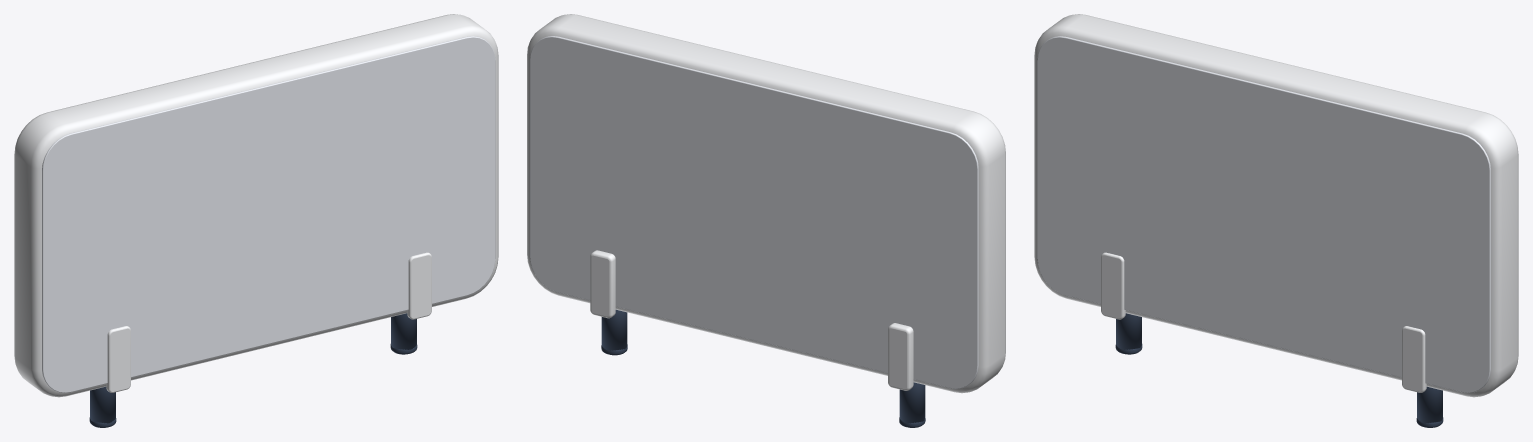
File: 24-nodeworks-monitor-divider.glb
3 views of the same model, side by side, from view 1: azimuth 30°, elevation 25°; view 2: azimuth 150°, elevation 25°; view 3: azimuth 330°, elevation 25° (orthographic).
Visible parts, largest first — view 1: rear_white_panel_face, rounded_white_panel_shell, right_rear_white_mount, left_rear_white_mount, right_dark_short_leg, left_dark_short_leg; view 2: front_white_panel_face, rounded_white_panel_shell, right_front_white_mount, left_front_white_mount, left_dark_short_leg, right_dark_short_leg; view 3: rear_white_panel_face, rounded_white_panel_shell, left_rear_white_mount, right_rear_white_mount, left_dark_short_leg, right_dark_short_leg.
Part boxes in pixels (left/top/right/bottom): rear_white_panel_face: left=42, top=36, right=495, bottom=392; rounded_white_panel_shell: left=14, top=14, right=498, bottom=397; right_rear_white_mount: left=407, top=252, right=431, bottom=319; left_rear_white_mount: left=106, top=326, right=130, bottom=392; right_dark_short_leg: left=391, top=313, right=416, bottom=349; left_dark_short_leg: left=90, top=386, right=115, bottom=423; front_white_panel_face: left=530, top=36, right=978, bottom=388; rounded_white_panel_shell: left=527, top=14, right=1005, bottom=393; right_front_white_mount: left=590, top=250, right=615, bottom=318; left_front_white_mount: left=888, top=323, right=913, bottom=390; left_dark_short_leg: left=899, top=382, right=925, bottom=423; right_dark_short_leg: left=601, top=309, right=627, bottom=350; rear_white_panel_face: left=1037, top=36, right=1490, bottom=392; rounded_white_panel_shell: left=1034, top=14, right=1518, bottom=397; left_rear_white_mount: left=1101, top=252, right=1125, bottom=319; right_rear_white_mount: left=1402, top=326, right=1426, bottom=392; left_dark_short_leg: left=1116, top=313, right=1141, bottom=349; right_dark_short_leg: left=1417, top=386, right=1442, bottom=423.
Size of the model in its own units: 0.62 by 0.405 by 0.073.
